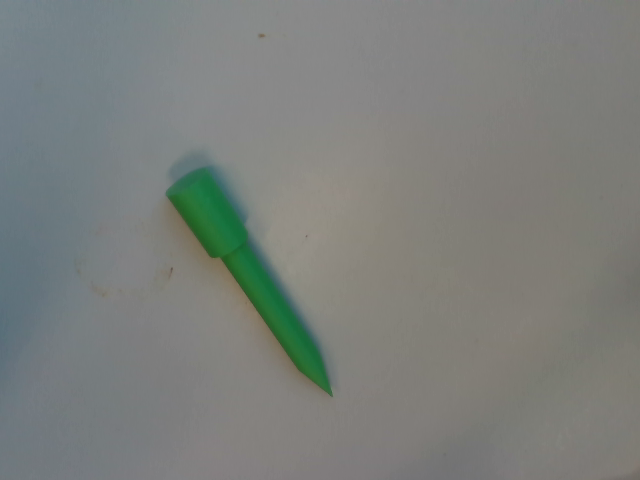Probe: (160, 160, 340, 407)
